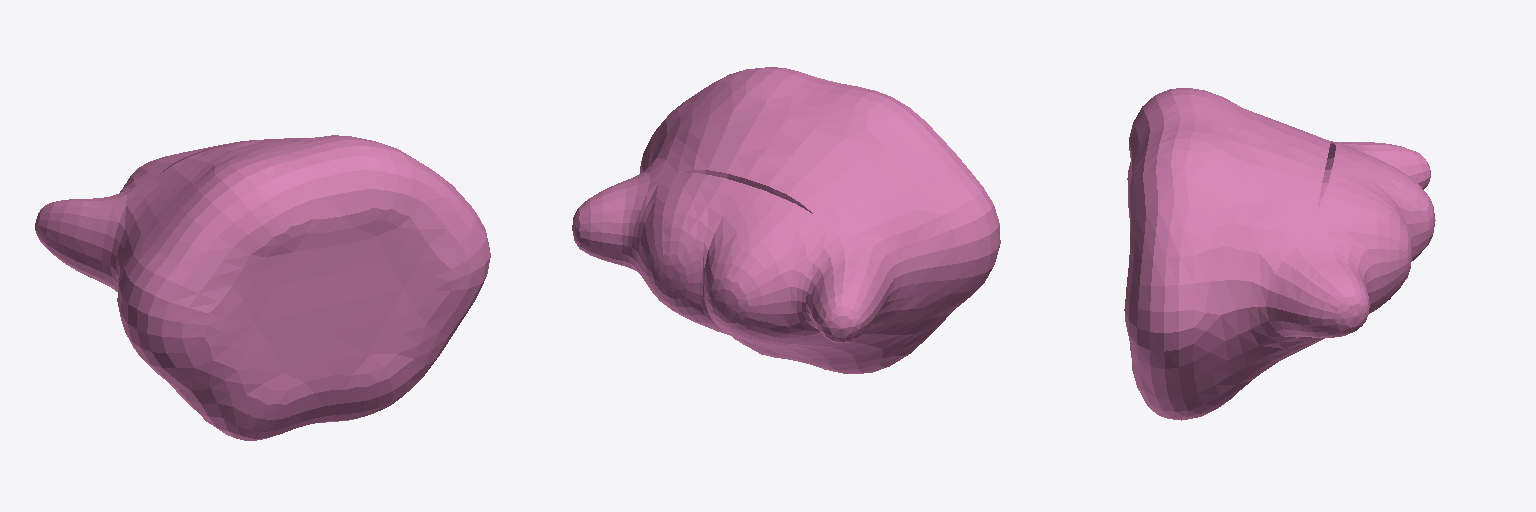
3 renders of one model, left to right at view 1: azimuth 30°, elevation 25°; view 2: azimuth 150°, elevation 25°; view 3: azimuth 270°, elevation 25°, orthographic.
Parts seen in each view (by area): view 1: mat_0; view 2: mat_0; view 3: mat_0.
Part boxes in pixels (bbox=[...]): mat_0: bbox=[35, 135, 490, 440]; mat_0: bbox=[572, 67, 1000, 373]; mat_0: bbox=[1124, 88, 1435, 420].
Size of the model in its own units: 4.58 by 3.43 by 3.51.
Materials: 1 (1 with a texture image).